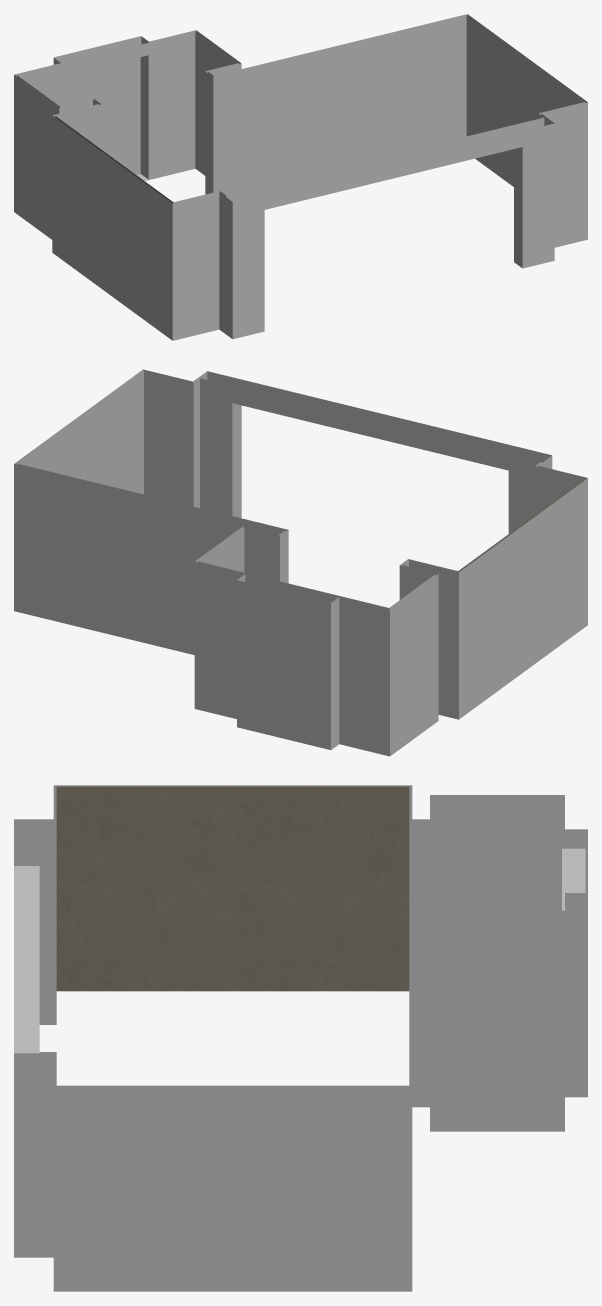
Rendered from CR04_Wall.FBX.
The picture shows the model from 3 angles, top to bottom: view 1: azimuth 30°, elevation 25°; view 2: azimuth 150°, elevation 25°; view 3: azimuth 270°, elevation 25°; orthographic projection. The views are drawn at different scales.
Parts seen in each view (by area): view 1: CR04_Wall; view 2: CR04_Wall; view 3: CR04_Wall.
Part boxes in pixels (x1=…): CR04_Wall: x1=14, y1=14, x2=587, y2=340; CR04_Wall: x1=14, y1=369, x2=587, y2=756; CR04_Wall: x1=14, y1=785, x2=587, y2=1291.
Bounding box in the file's own units: 8301 × 2625 × 6679.
